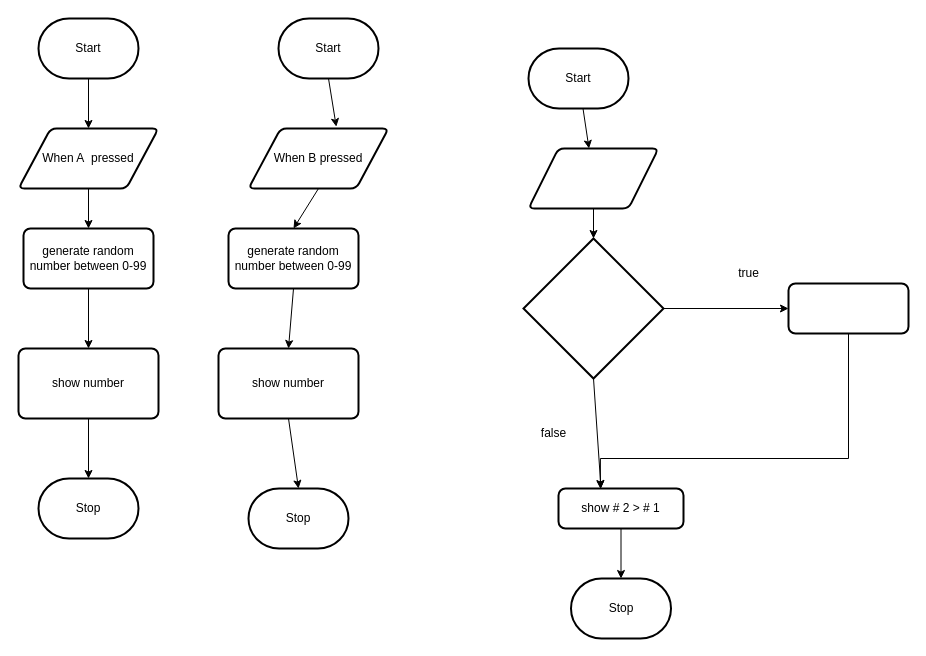
This 926x656 diagram has some shape labels left out. The centre of each missing label's shape, as x and y in pixels:
"if randomNumber1 > randomNumber2" belongs at pixel 593 308.
"shake microbit" belongs at pixel 593 178.
"show # 1< # 2" belongs at pixel 848 308.
